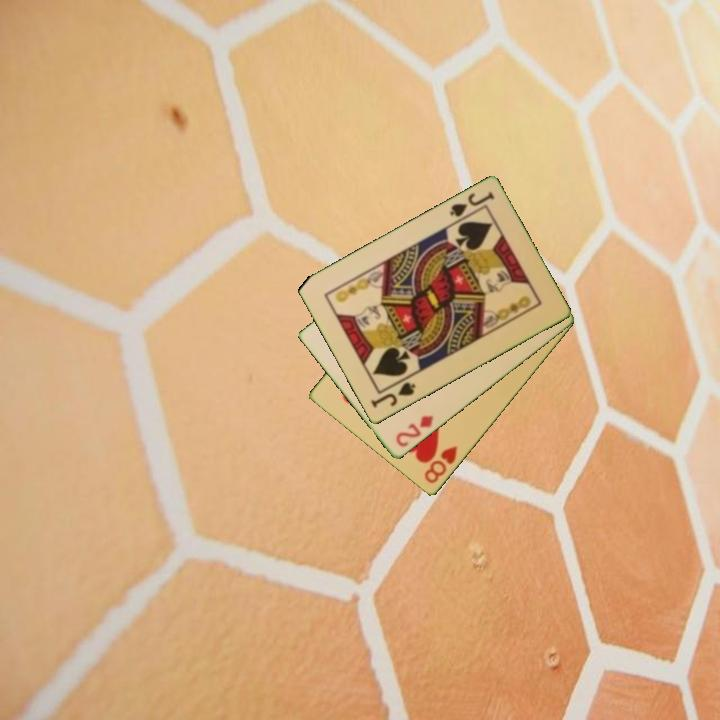2d: (392, 412, 436, 450)
8h: (421, 442, 461, 487)
Js: (367, 379, 419, 411), (446, 188, 497, 220)
